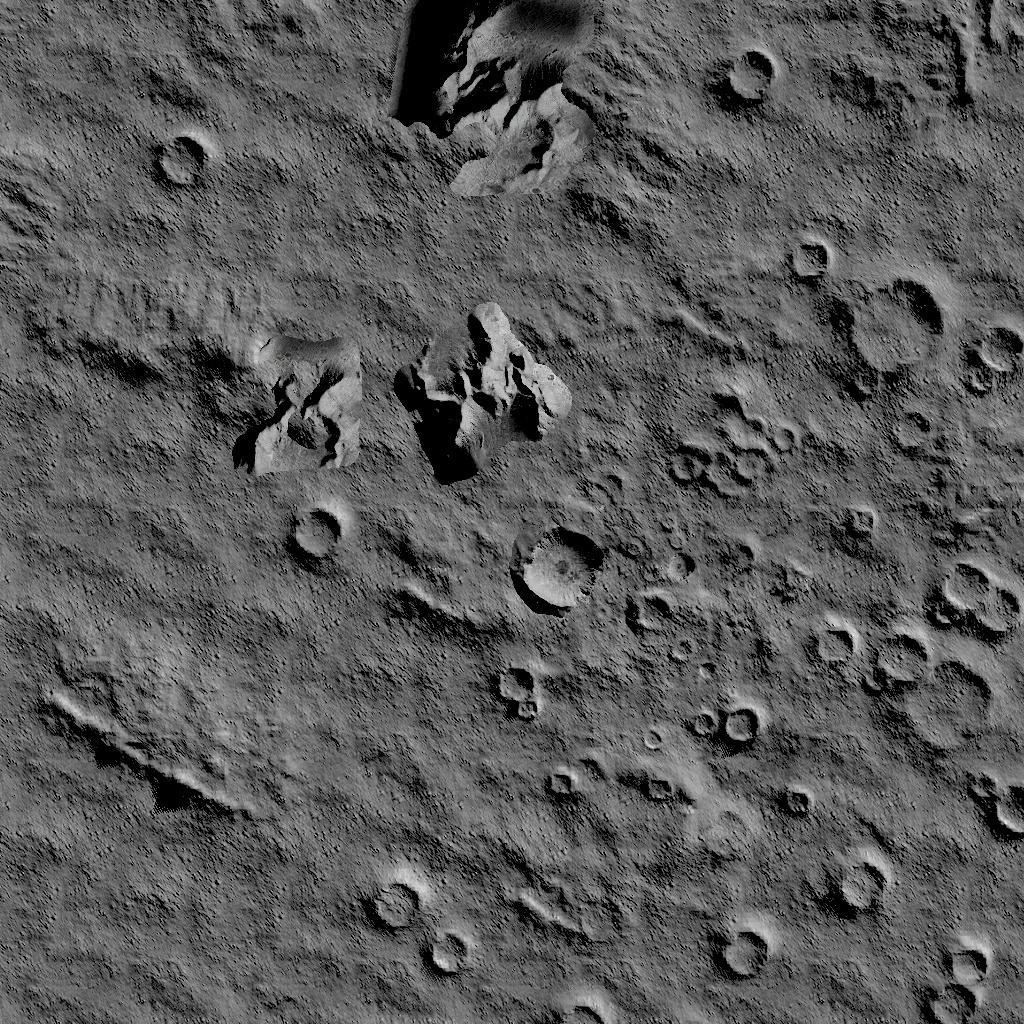Boulders: (394, 2, 680, 256), (28, 272, 370, 482), (38, 680, 256, 823), (406, 312, 568, 490), (0, 0, 326, 88), (828, 0, 1024, 120), (386, 575, 498, 640), (0, 148, 66, 258)
Crater: (791, 238, 940, 376), (668, 398, 798, 496), (874, 652, 986, 756), (376, 872, 480, 982), (511, 518, 598, 612), (931, 560, 1024, 640), (916, 935, 995, 1024), (958, 312, 1024, 400), (290, 500, 350, 575), (958, 770, 1024, 835), (156, 130, 220, 193), (721, 52, 783, 112), (721, 920, 775, 988), (493, 662, 548, 722), (836, 850, 888, 913), (621, 580, 678, 635), (686, 702, 768, 740), (536, 765, 586, 818), (556, 968, 600, 1024), (636, 755, 680, 800), (814, 620, 856, 663), (781, 778, 818, 818)
Plan surface: (0, 840, 356, 1024), (0, 490, 281, 665), (273, 675, 483, 830), (258, 105, 378, 258)
